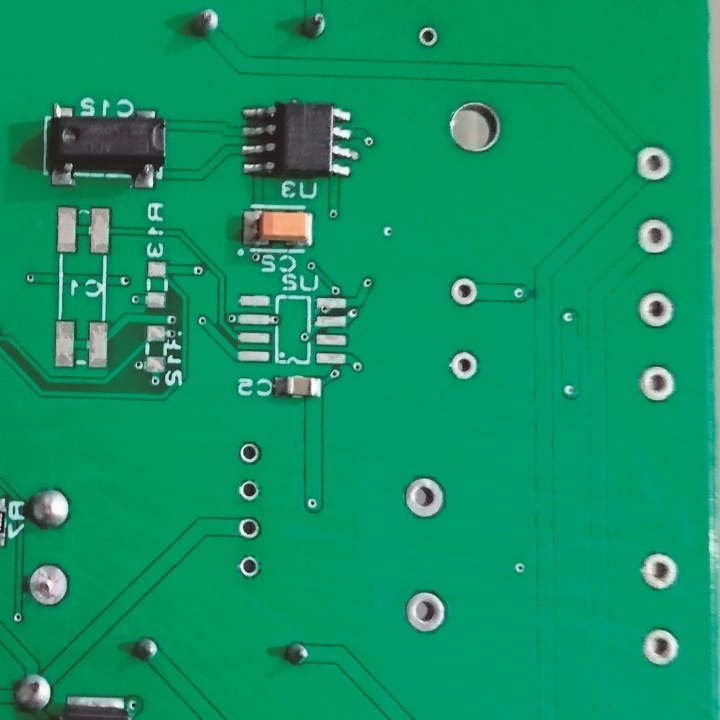F: (402, 473, 447, 523), (26, 560, 71, 608), (404, 586, 447, 635), (639, 552, 676, 595), (640, 626, 678, 667), (638, 292, 679, 330), (639, 215, 676, 257), (640, 363, 677, 404), (636, 143, 673, 183), (444, 350, 481, 383), (449, 274, 477, 312), (240, 517, 264, 543), (239, 478, 263, 502), (240, 553, 261, 578), (238, 439, 259, 463), (418, 26, 439, 46)
